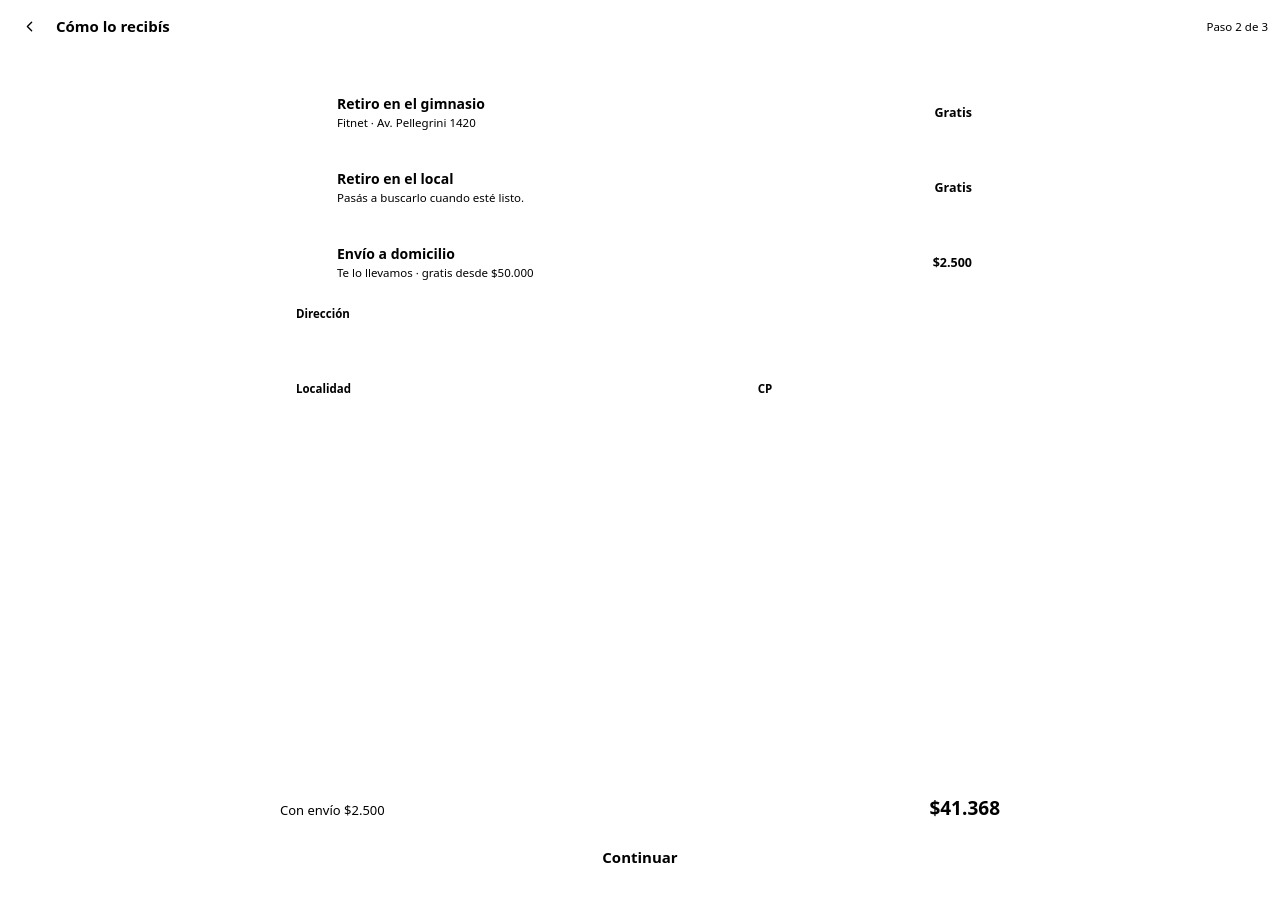
it: checkout · paso 2, la entrega › con envío elegido y sin dirección tampoco avanza
Click the button "Continuar" at (640, 857), box left=280, top=832, right=1000, bottom=882
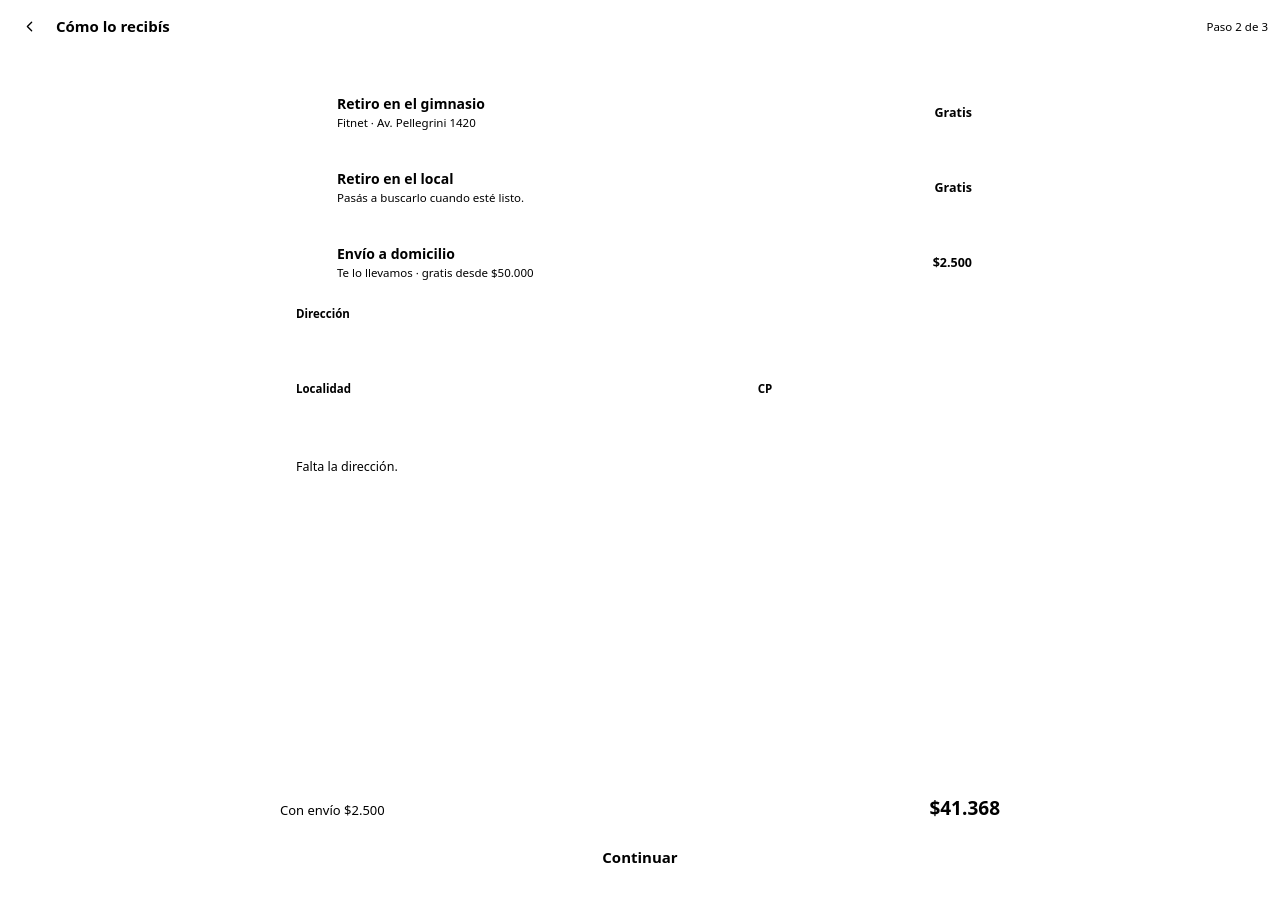
Expected: the message "Falta la dirección." is shown, left=296, top=458, right=398, bottom=475
